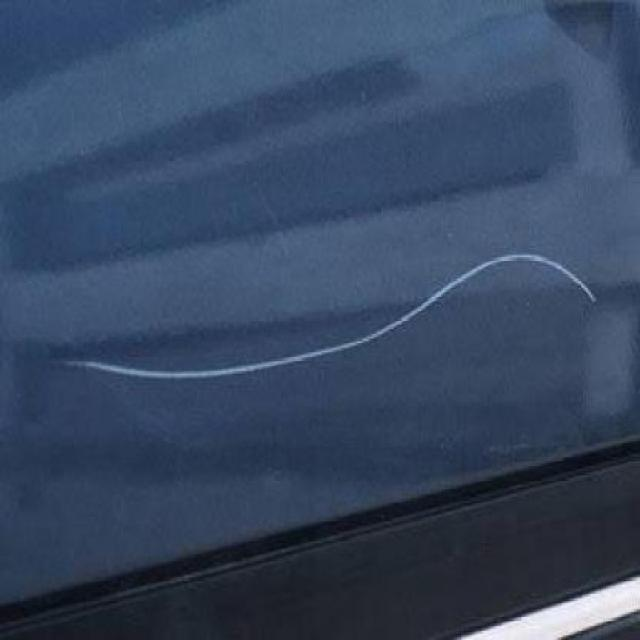scratch: (38, 246, 620, 386)
